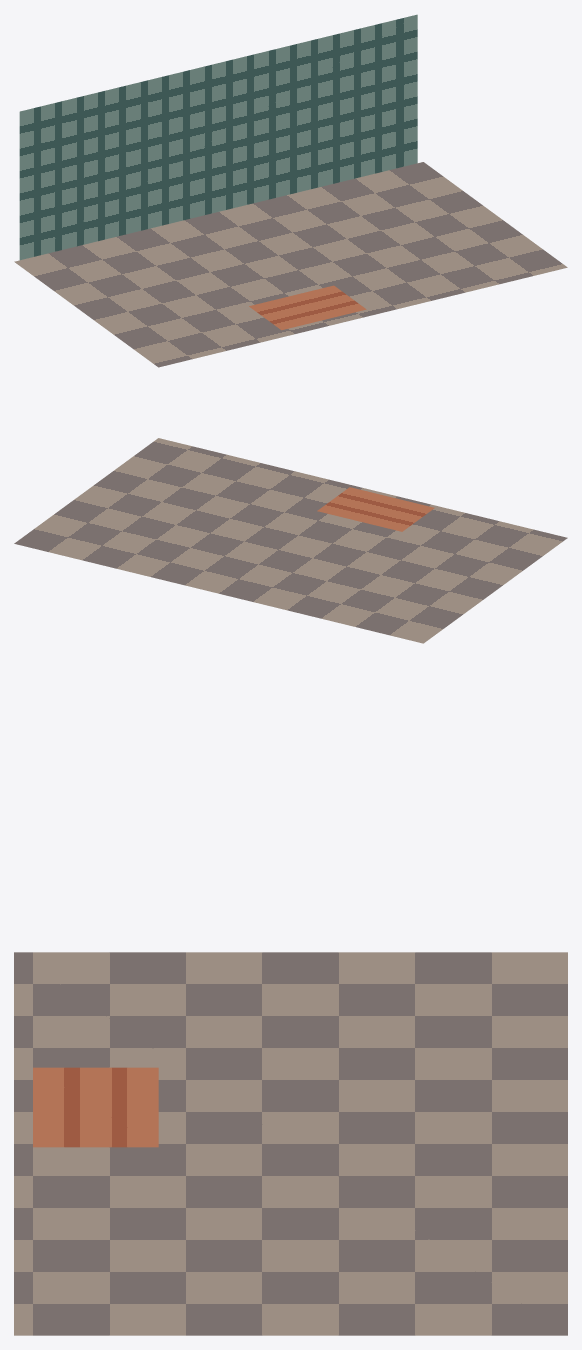
The model's file is room.glb.
3 views of the same model, one above another, from view 1: azimuth 30°, elevation 25°; view 2: azimuth 150°, elevation 25°; view 3: azimuth 270°, elevation 25° (orthographic). The views are drawn at different scales.
Visible parts, largest first — view 1: Wall, Floor, Mat; view 2: Floor, Mat; view 3: Floor, Mat.
Boxes of the visible parts, left/top/right/bottom form: Wall: left=19, top=14, right=417, bottom=260; Floor: left=14, top=162, right=567, bottom=367; Mat: left=249, top=285, right=366, bottom=330; Floor: left=14, top=438, right=567, bottom=643; Mat: left=317, top=487, right=434, bottom=531; Floor: left=14, top=952, right=567, bottom=1335; Mat: left=33, top=1067, right=158, bottom=1147.
Bounding box in the file's own units: 14.4 × 5 × 8.8.
Materials: 3 (3 with a texture image).
